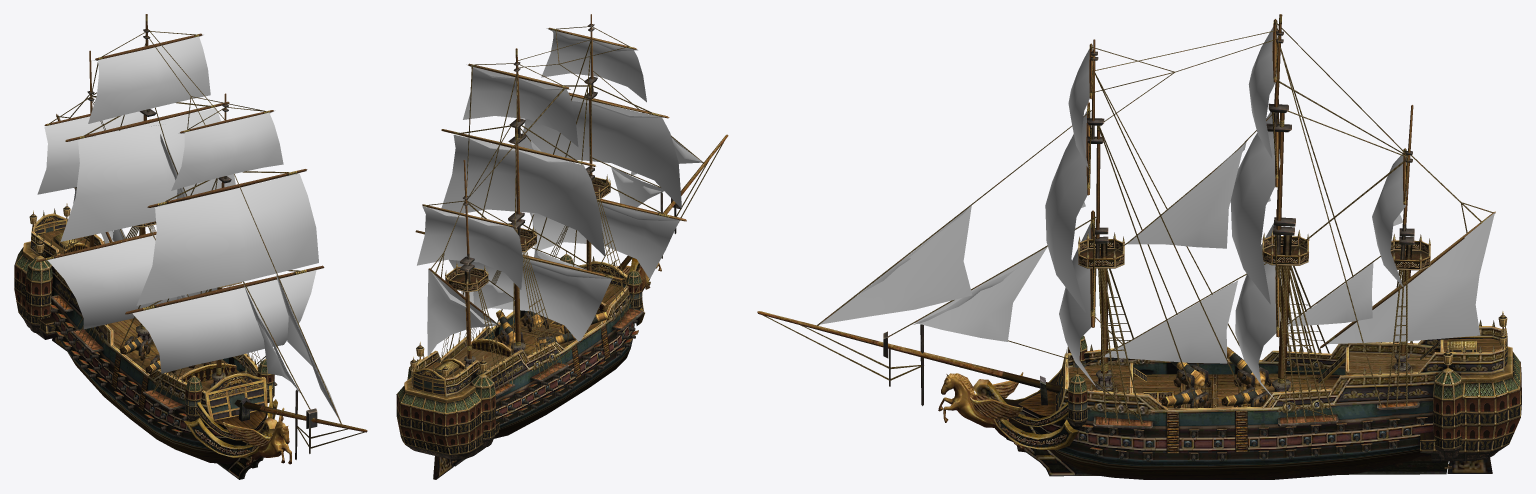
File: T_Ship_15.fbx
The picture shows the model from 3 angles, left to right: view 1: azimuth 30°, elevation 25°; view 2: azimuth 150°, elevation 25°; view 3: azimuth 270°, elevation 25°; orthographic projection. The views are drawn at different scales.
Visible parts, largest first — view 1: T_Ship_p1, T_Ship_15, T_Ship_15_p2, T_Ship_p1_off, T_Ship_15_p3, T_Ship_15_p4; view 2: T_Ship_p1, T_Ship_15, T_Ship_15_p2, T_Ship_p1_off, T_Ship_15_p3; view 3: T_Ship_15, T_Ship_p1, T_Ship_15_p2, T_Ship_15_p3, T_Ship_15_p4, T_Ship_p1_off.
Boxes of the visible parts, left/top/right/bottom form: T_Ship_p1: left=37, top=36, right=339, bottom=418; T_Ship_15: left=14, top=14, right=367, bottom=465; T_Ship_15_p2: left=14, top=289, right=268, bottom=445; T_Ship_p1_off: left=46, top=34, right=338, bottom=418; T_Ship_15_p3: left=60, top=340, right=239, bottom=464; T_Ship_15_p4: left=217, top=443, right=263, bottom=479; T_Ship_p1: left=417, top=32, right=701, bottom=356; T_Ship_15: left=396, top=14, right=728, bottom=437; T_Ship_15_p2: left=397, top=320, right=638, bottom=459; T_Ship_p1_off: left=428, top=28, right=701, bottom=327; T_Ship_15_p3: left=494, top=339, right=632, bottom=438; T_Ship_15: left=757, top=14, right=1521, bottom=450; T_Ship_p1: left=820, top=21, right=1494, bottom=400; T_Ship_15_p2: left=1018, top=404, right=1520, bottom=462; T_Ship_15_p3: left=1036, top=433, right=1426, bottom=479; T_Ship_15_p4: left=1006, top=411, right=1448, bottom=476; T_Ship_p1_off: left=850, top=82, right=1406, bottom=334.
Bounding box in the file's own units: 5.81 × 9.92 × 14.88.
